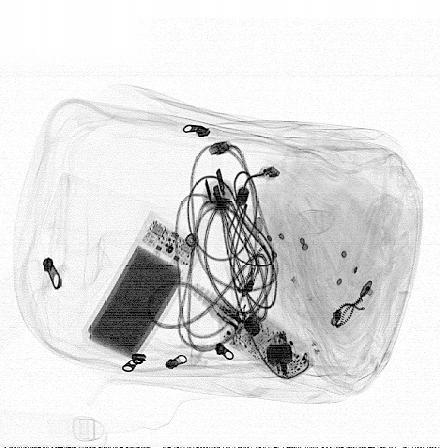Powerbank: (81, 211, 205, 364)
